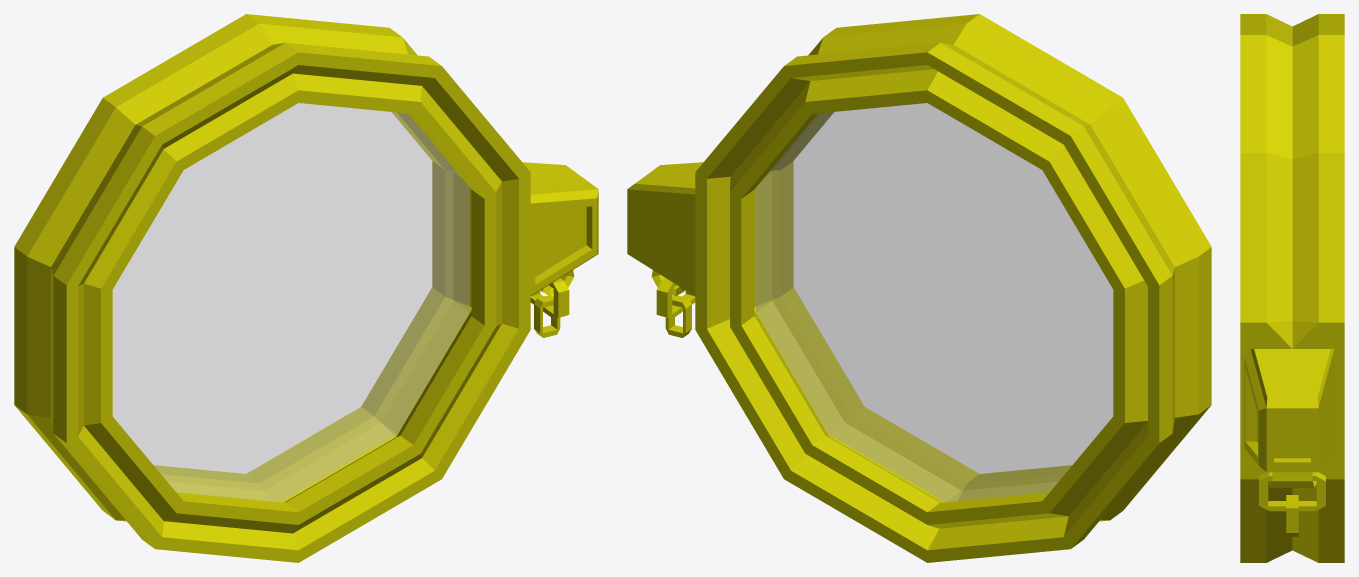
File: monocle_time.fbx
3 views of the same model, side by side, from view 1: azimuth 30°, elevation 25°; view 2: azimuth 150°, elevation 25°; view 3: azimuth 270°, elevation 25° (orthographic).
Visible parts, largest first — view 1: monocle; view 2: monocle; view 3: monocle.
Part boxes in pixels (x1,y1,x2,y2): monocle: (14,14,598,562); monocle: (627,14,1211,562); monocle: (1240,14,1344,562).
Size of the model in its own units: 224 by 200 by 37.19.
